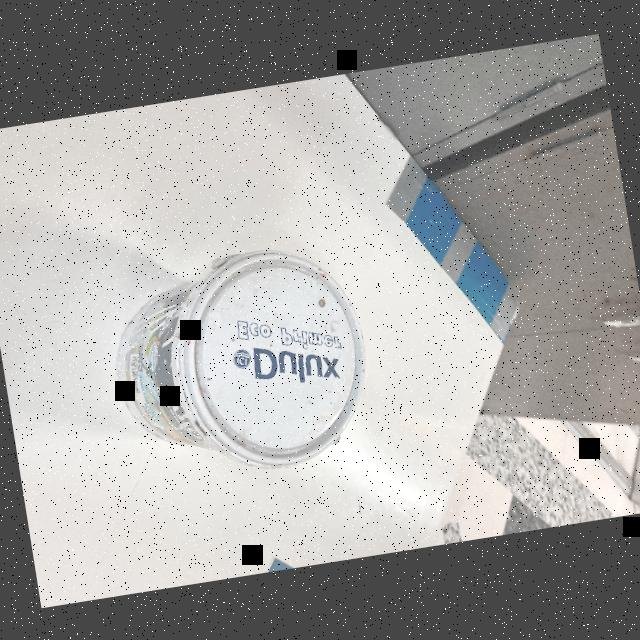paint_bucket: (89, 213, 381, 507)
